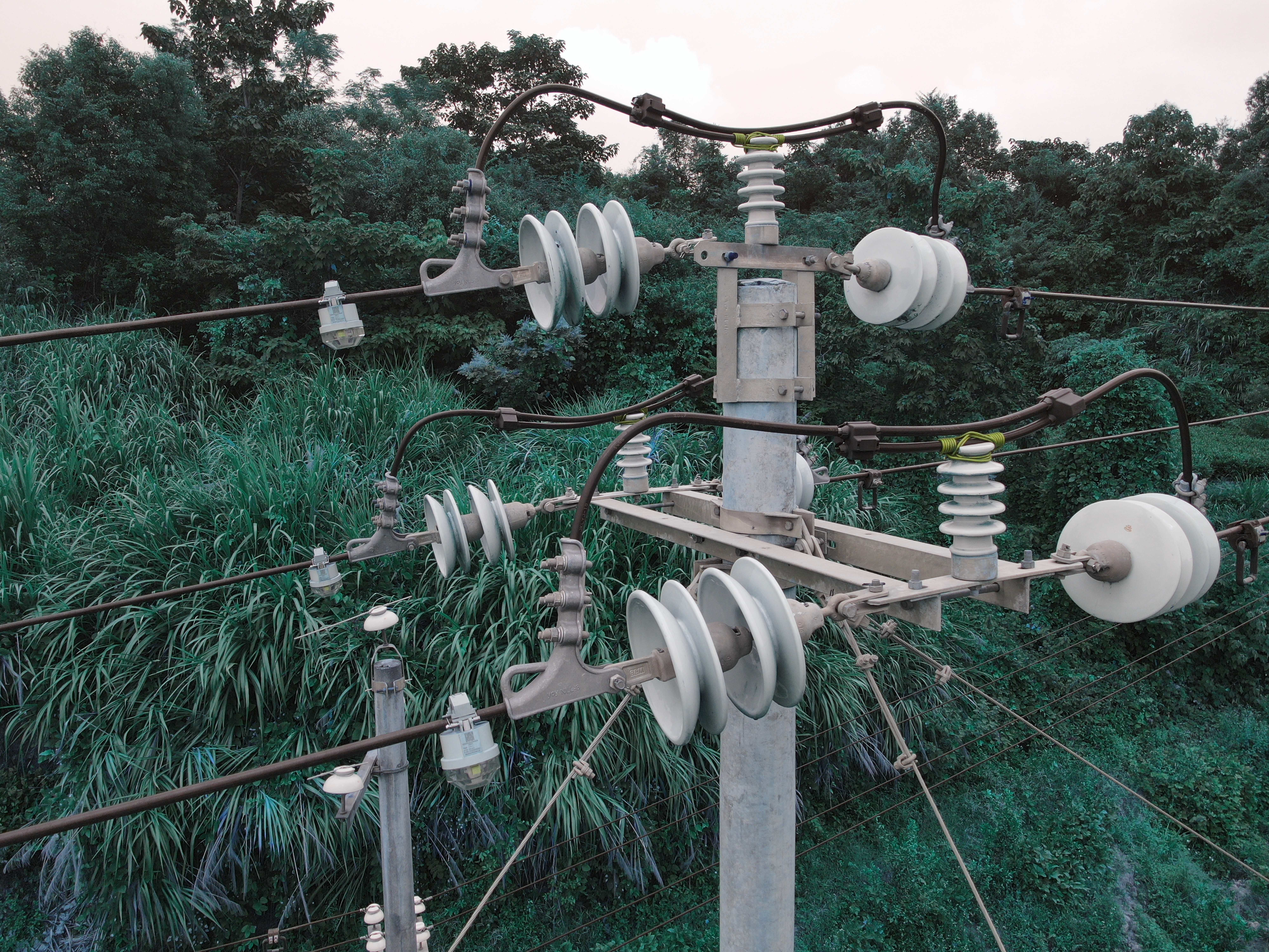severe_soiling_no_discharge_whole: (514, 196, 667, 331)
